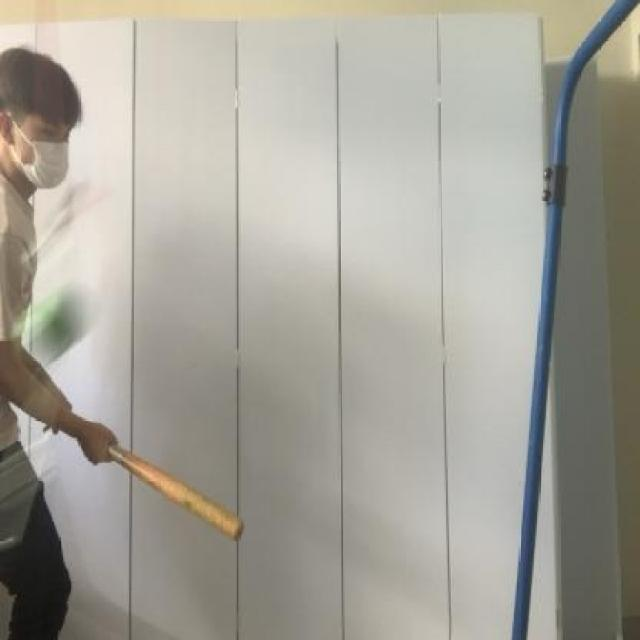baseball: (16, 277, 106, 372)
